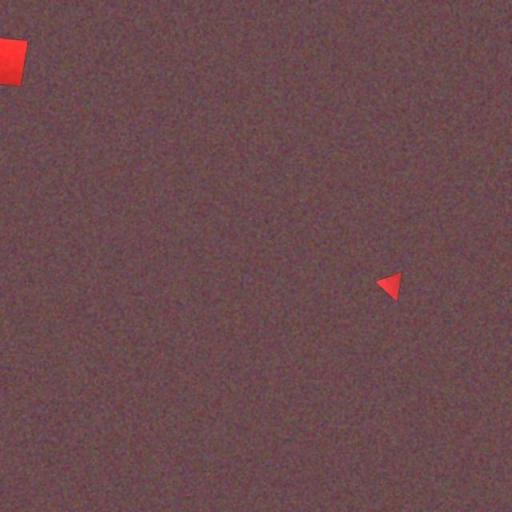RED_SQUARE: (0, 36, 29, 88)
